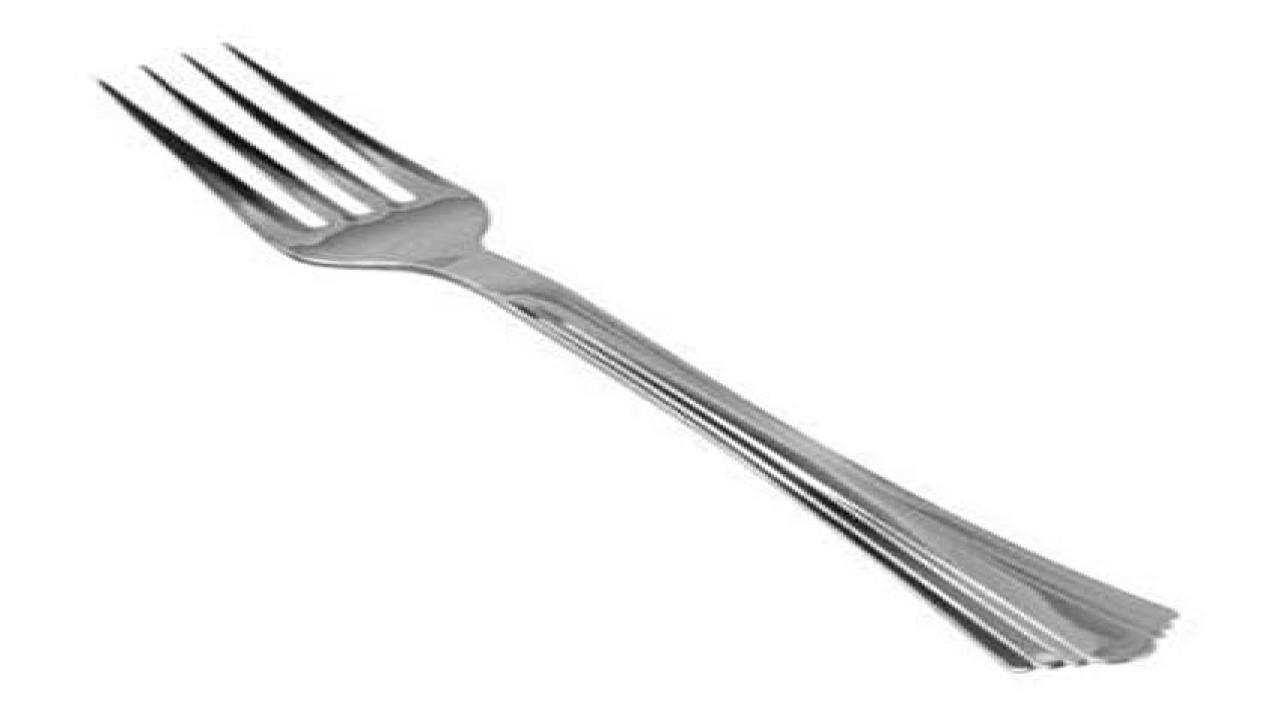fork: (90, 39, 1181, 672)
